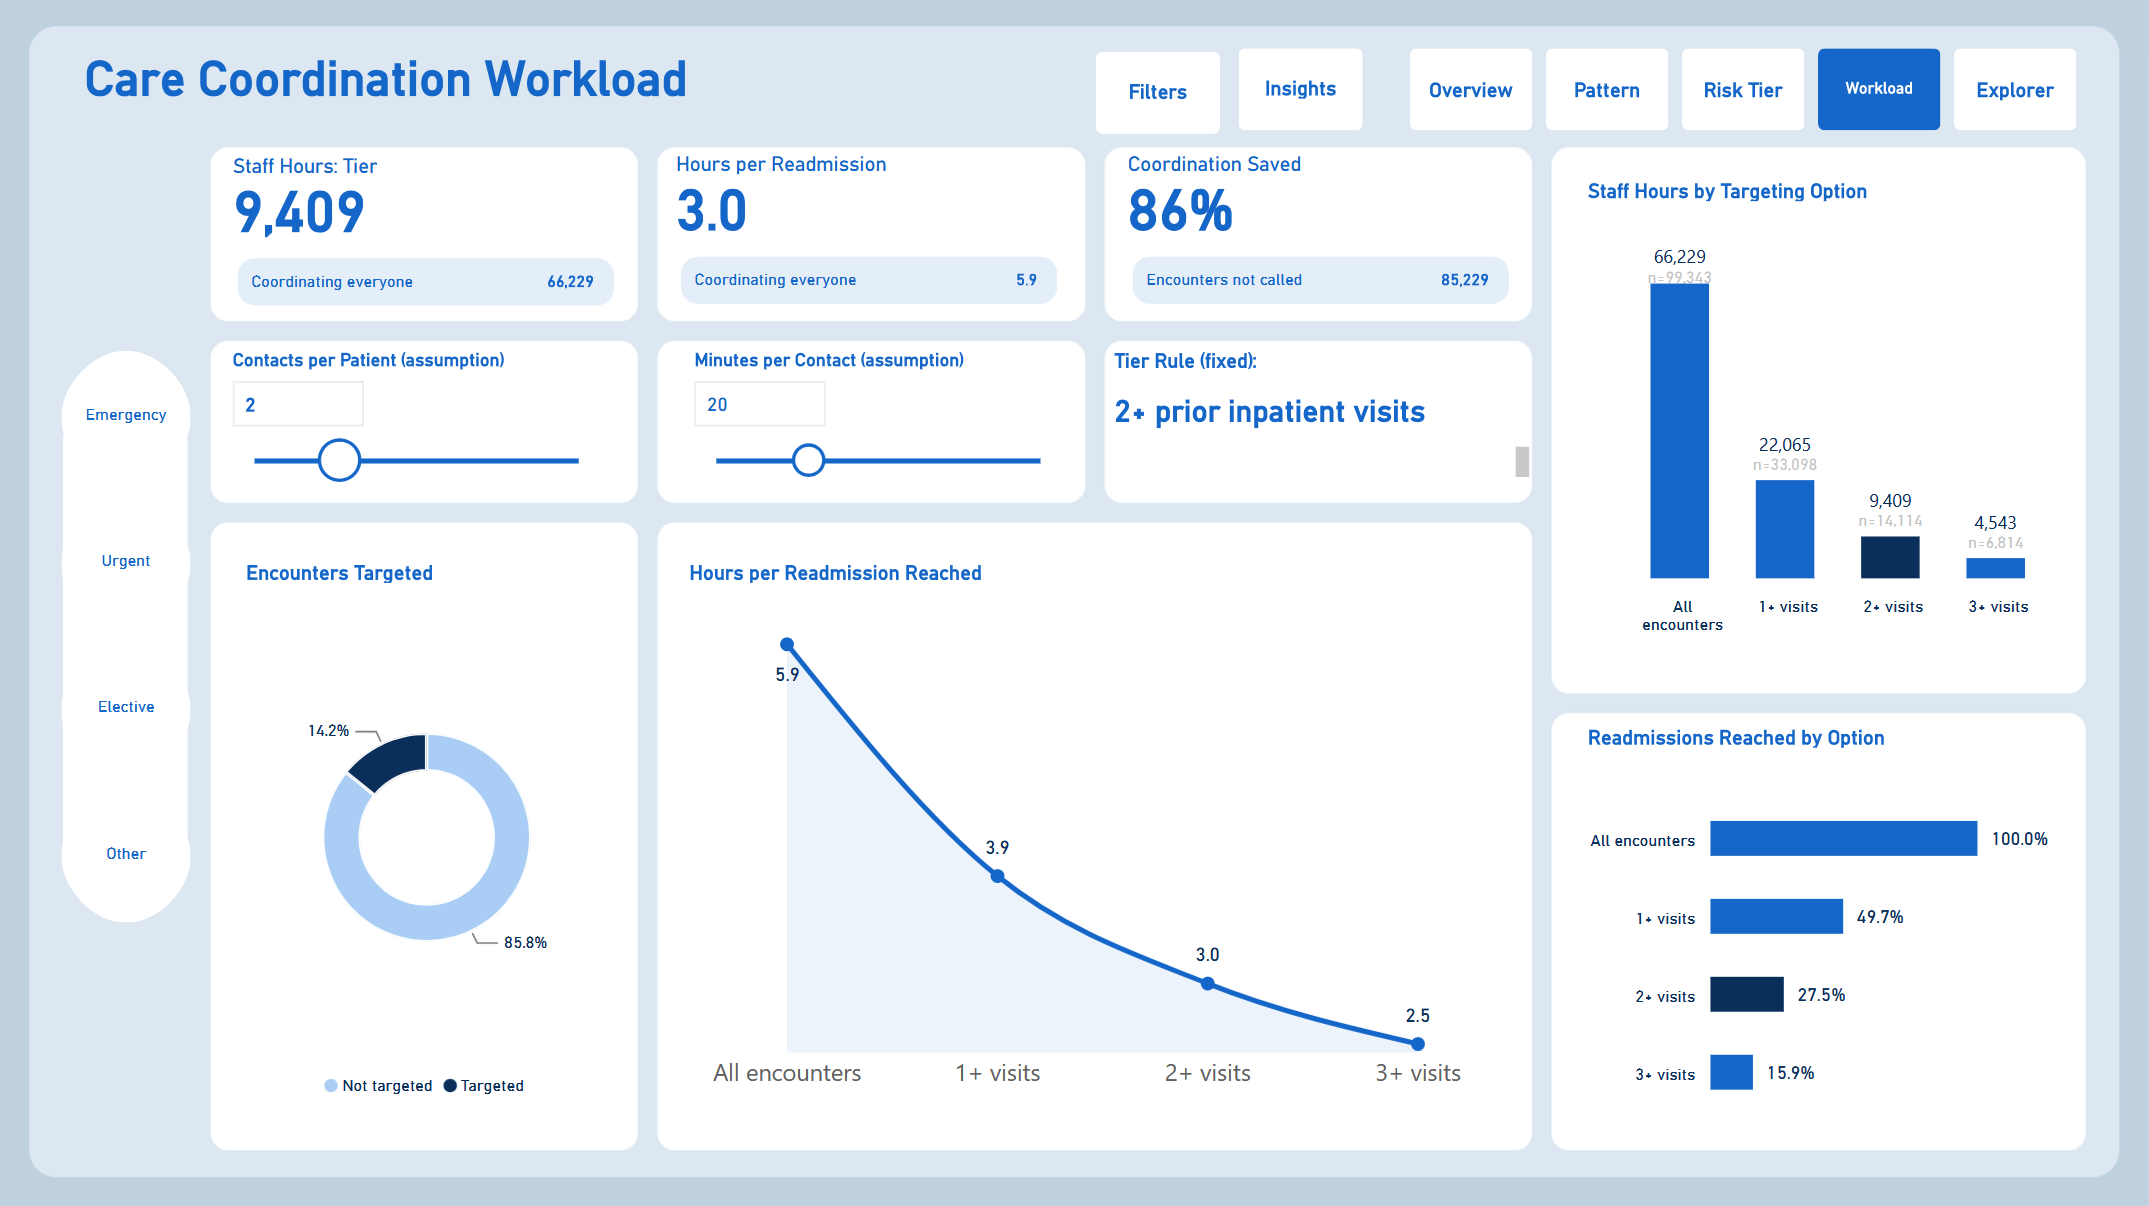

The page's visual inventory and layout, read from the dashboard file:
{"tool":"powerbi","page":{"name":"Workload","canvas":[1280,720],"ordinal":3},"visuals":[{"type":"textbox","box":[50.5,29.7,529.2,55],"z":0},{"type":"cardVisual","title":"Total Encounters","fields":{"Data":["_Measures.Staff Hours Tier"]},"box":[131,93,246,100],"z":1000},{"type":"cardVisual","title":"Total Encounters","fields":{"Data":["_Measures.Hours per Readmission Tier"]},"box":[395.4,92.2,246,100],"z":2000},{"type":"cardVisual","title":"Total Encounters","fields":{"Data":["_Measures.Coordination Saved"]},"box":[664.4,92.2,246,100],"z":3000},{"type":"slicer","fields":{"Values":["Contacts per Patient.Contacts per Patient"]},"box":[130.8,208.1,231.9,101.1],"z":4000},{"type":"slicer","fields":{"Values":["Minutes per Contact.Minutes per Contact"]},"box":[406,208.1,232,93],"z":5000},{"type":"textbox","title":"Tier Rule (fixed):","box":[664.4,208.1,246.7,75.8],"z":6000},{"type":"clusteredColumnChart","title":"Staff Hours by Targeting Option","fields":{"Category":["Targeting Options.Option"],"Y":["_Measures.Option Staff Hours"]},"box":[929.7,93.5,307.6,302.5],"z":7000},{"type":"clusteredBarChart","title":"Readmissions Reached by Option","fields":{"Category":["Targeting Options.Option"],"Y":["_Measures.Option Reach"]},"box":[929.7,418.1,307.6,266.8],"z":8000},{"type":"donutChart","title":"Encounters Targeted","fields":{"Category":["Encounters.Target Status"],"Y":["_Measures.Encounters (Included)"]},"box":[130.8,319.6,246.7,355.2],"z":9000},{"type":"lineChart","title":"Hours per Readmission Reached","fields":{"Category":["Targeting Options.Option"],"Y":["_Measures.Option Hours per Readmission"]},"box":[395.4,319.6,515.8,349.3],"z":10000},{"type":"pageNavigator","box":[839.6,28.9,397.7,49.3],"z":11000},{"type":"actionButton","title":"Insight","box":[737.6,28.9,74.8,49.3],"z":12000},{"type":"actionButton","title":"Filter","box":[652.6,30.6,74.8,49.3],"z":14000},{"type":"advancedSlicerVisual","fields":{"Values":["Admission Type.Admission Strip"]},"box":[39,209,74,343],"z":16000}]}

Visuals, with their boxes in screenshot pixels (x1, y1, x2, y2), scaled from the page's 1280x720 canvas onto the 2149x1206 screenshot:
textbox: <region>85, 50, 973, 142</region>
"Total Encounters" cardVisual: <region>220, 156, 633, 323</region>
"Total Encounters" cardVisual: <region>664, 154, 1077, 322</region>
"Total Encounters" cardVisual: <region>1115, 154, 1528, 322</region>
slicer - Contacts per Patient.Contacts per Patient: <region>220, 349, 609, 518</region>
slicer - Minutes per Contact.Minutes per Contact: <region>682, 349, 1071, 504</region>
"Tier Rule (fixed):" textbox: <region>1115, 349, 1530, 476</region>
"Staff Hours by Targeting Option" clusteredColumnChart: <region>1561, 157, 2077, 663</region>
"Readmissions Reached by Option" clusteredBarChart: <region>1561, 700, 2077, 1147</region>
"Encounters Targeted" donutChart: <region>220, 535, 634, 1130</region>
"Hours per Readmission Reached" lineChart: <region>664, 535, 1530, 1120</region>
pageNavigator: <region>1410, 48, 2077, 131</region>
"Insight" actionButton: <region>1238, 48, 1364, 131</region>
"Filter" actionButton: <region>1096, 51, 1221, 134</region>
advancedSlicerVisual - Admission Type.Admission Strip: <region>65, 350, 190, 925</region>
